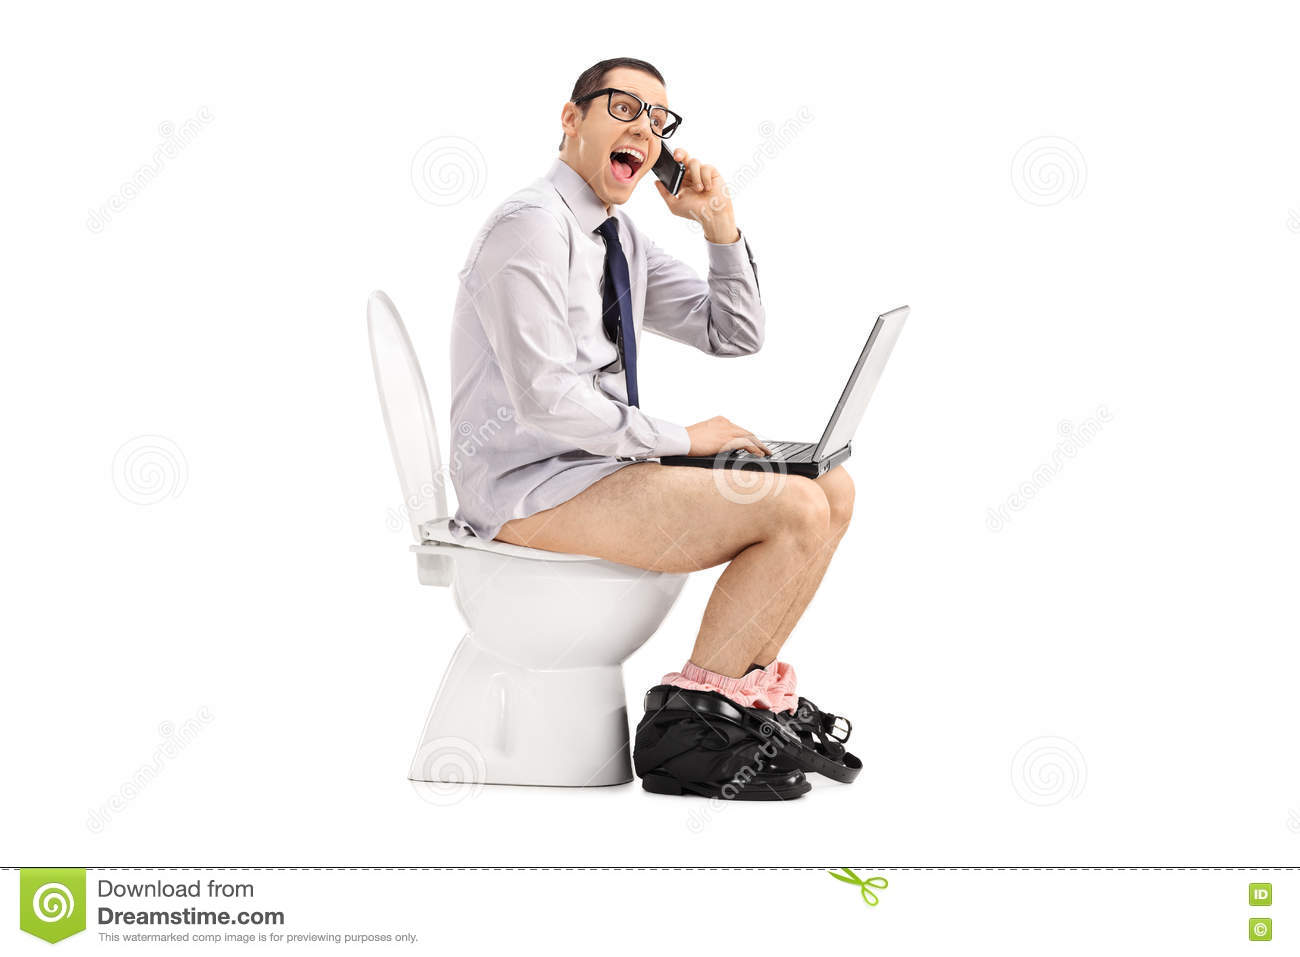phone: (651, 144, 688, 197)
talk: (593, 85, 734, 225)
